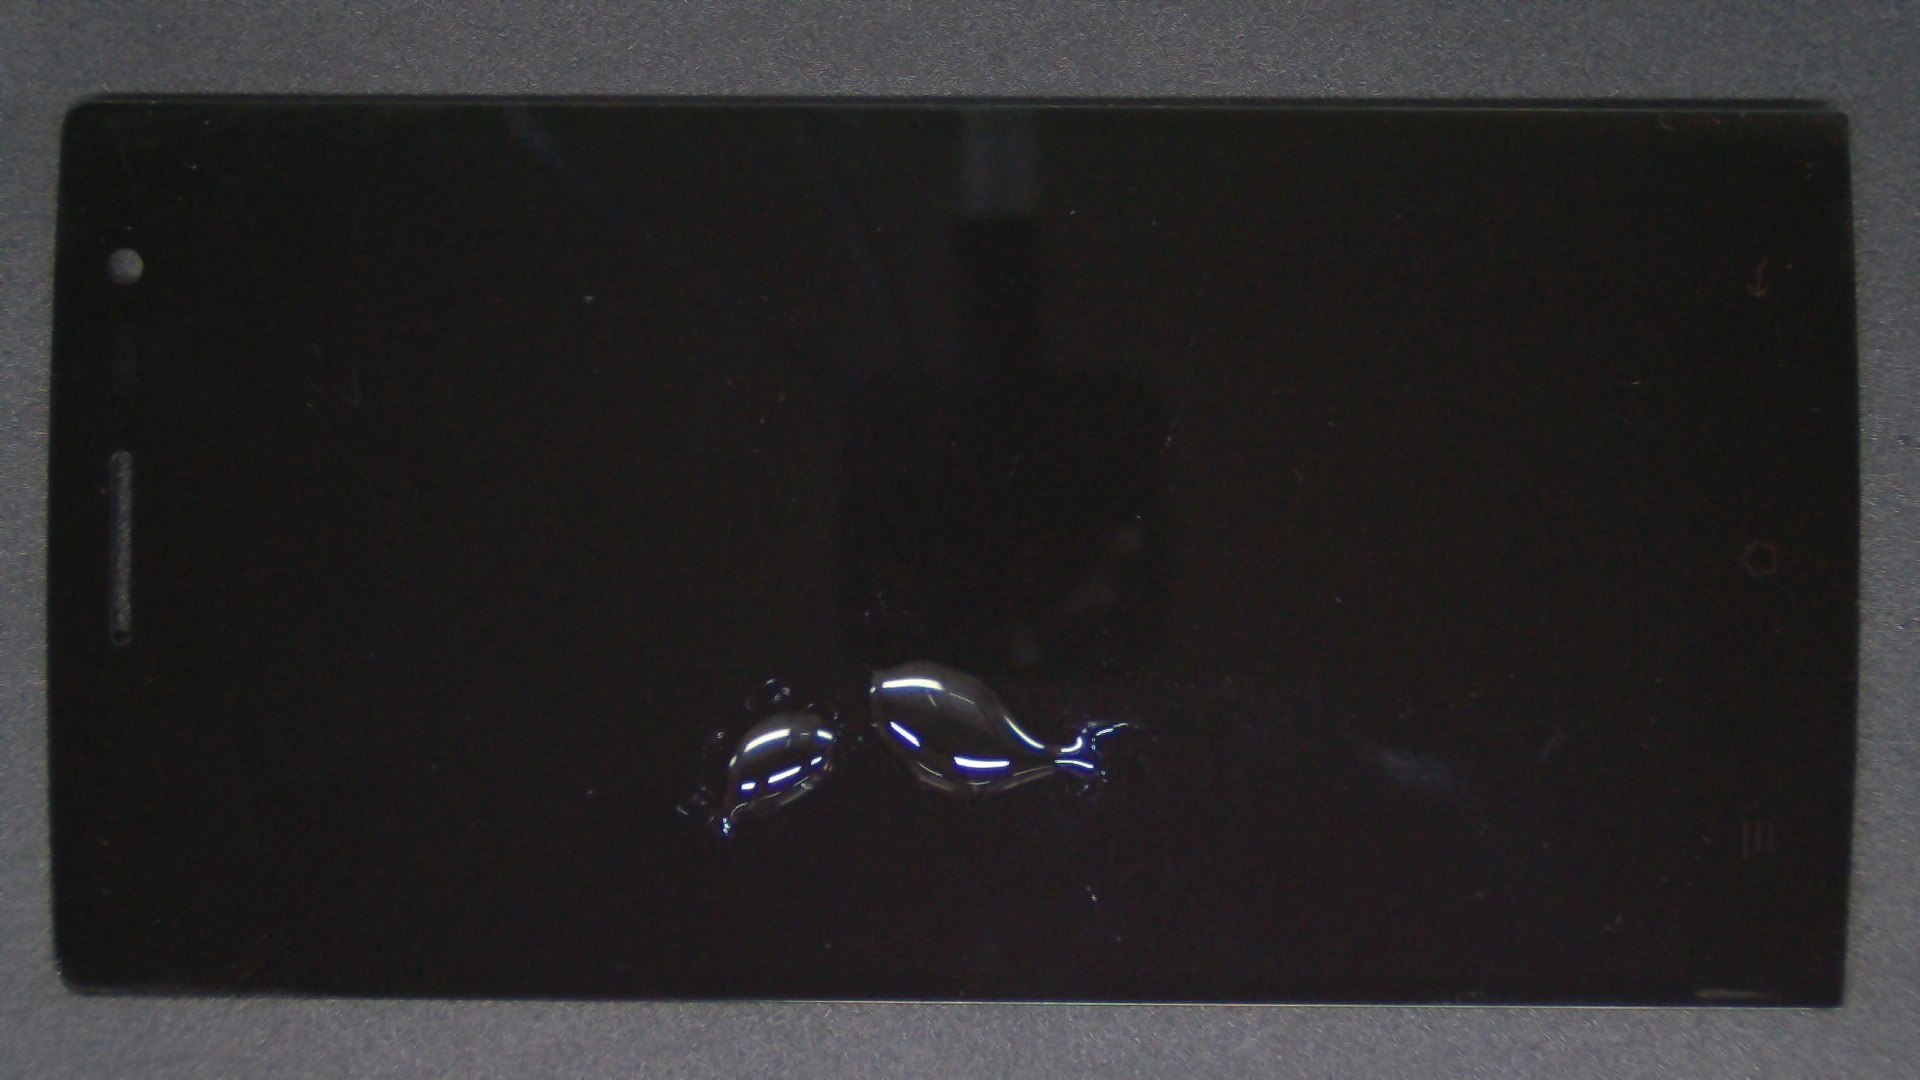oil: (460, 330, 1378, 990), (390, 355, 1168, 1067)
